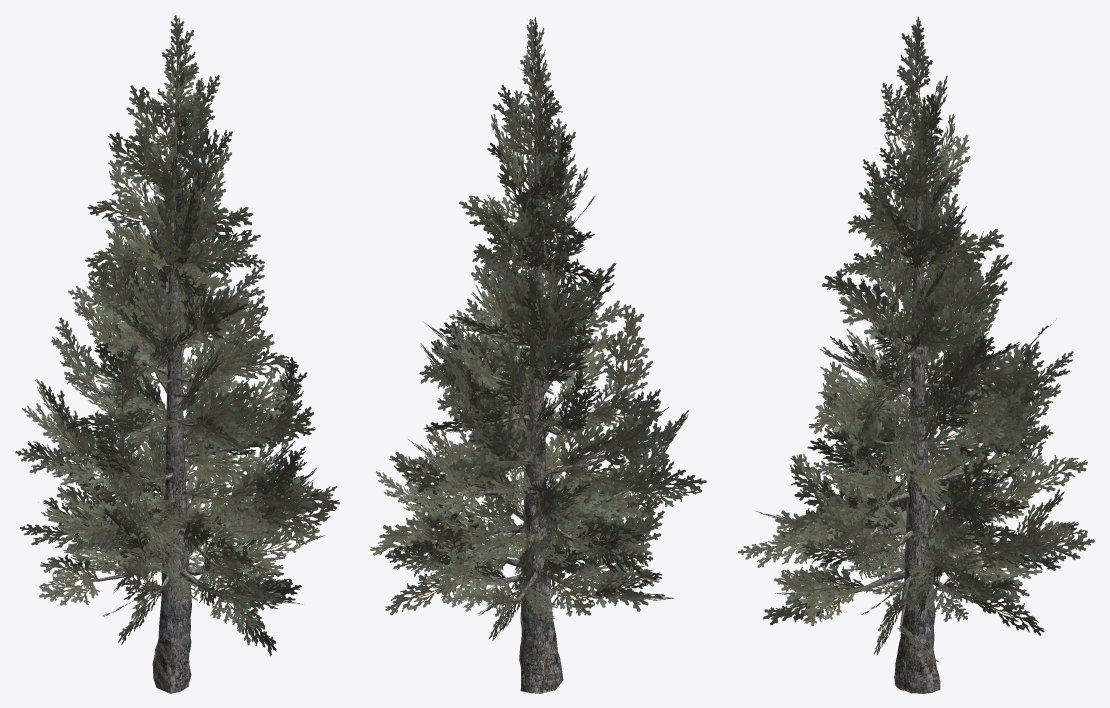
Rendered from spruce_tree.glb.
The picture shows the model from 3 angles, left to right: view 1: azimuth 30°, elevation 25°; view 2: azimuth 150°, elevation 25°; view 3: azimuth 270°, elevation 25°; orthographic projection.
Parts seen in each view (by area): view 1: Spruce_LOD0; view 2: Spruce_LOD0; view 3: Spruce_LOD0.
Part boxes in pixels (x1,y1,x2,y2): Spruce_LOD0: (15, 15, 339, 693); Spruce_LOD0: (370, 17, 706, 693); Spruce_LOD0: (738, 16, 1094, 693).
Bounding box in the file's own units: 8.1 × 17.42 × 8.42.
Materials: 2 (2 with a texture image).
